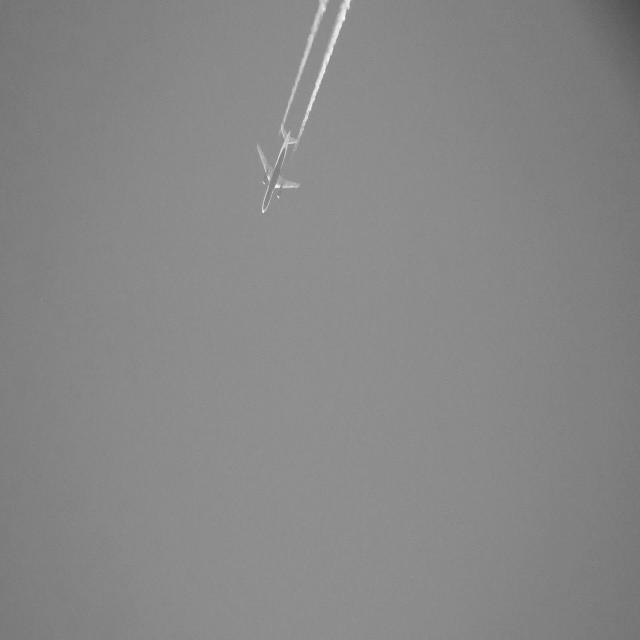aeroplane: (254, 118, 303, 220)
